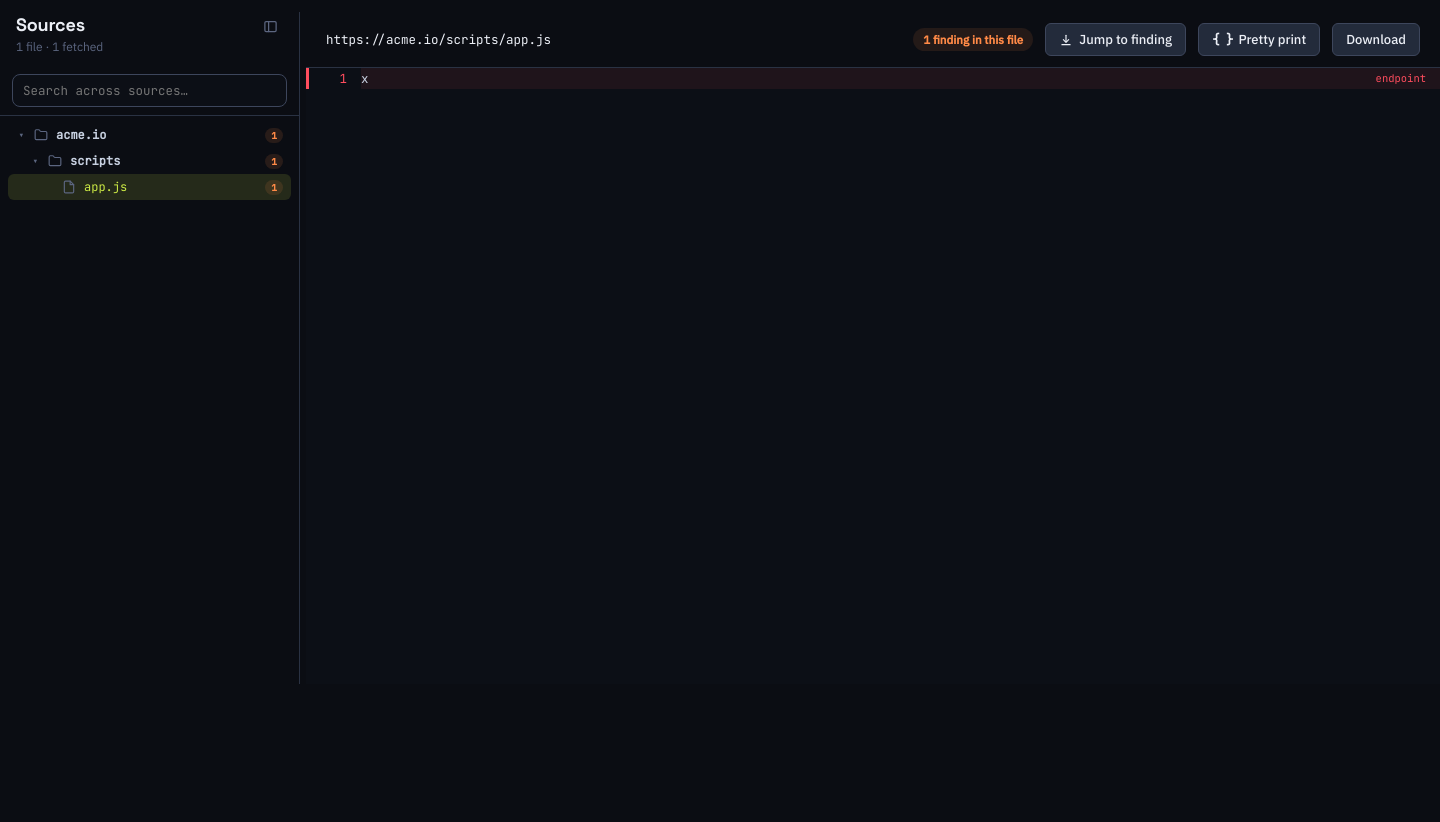
Test: SourcesPage › folds a directory and shows an aggregated finding badge on the folder
This screenshot has width=1440, height=822.
Expected: the text "app.js" is shown, [84,179,127,195]
Step 1. Click the button "▸ scripts 1" → {"x": 95, "y": 161}, box [8,148,291,174]
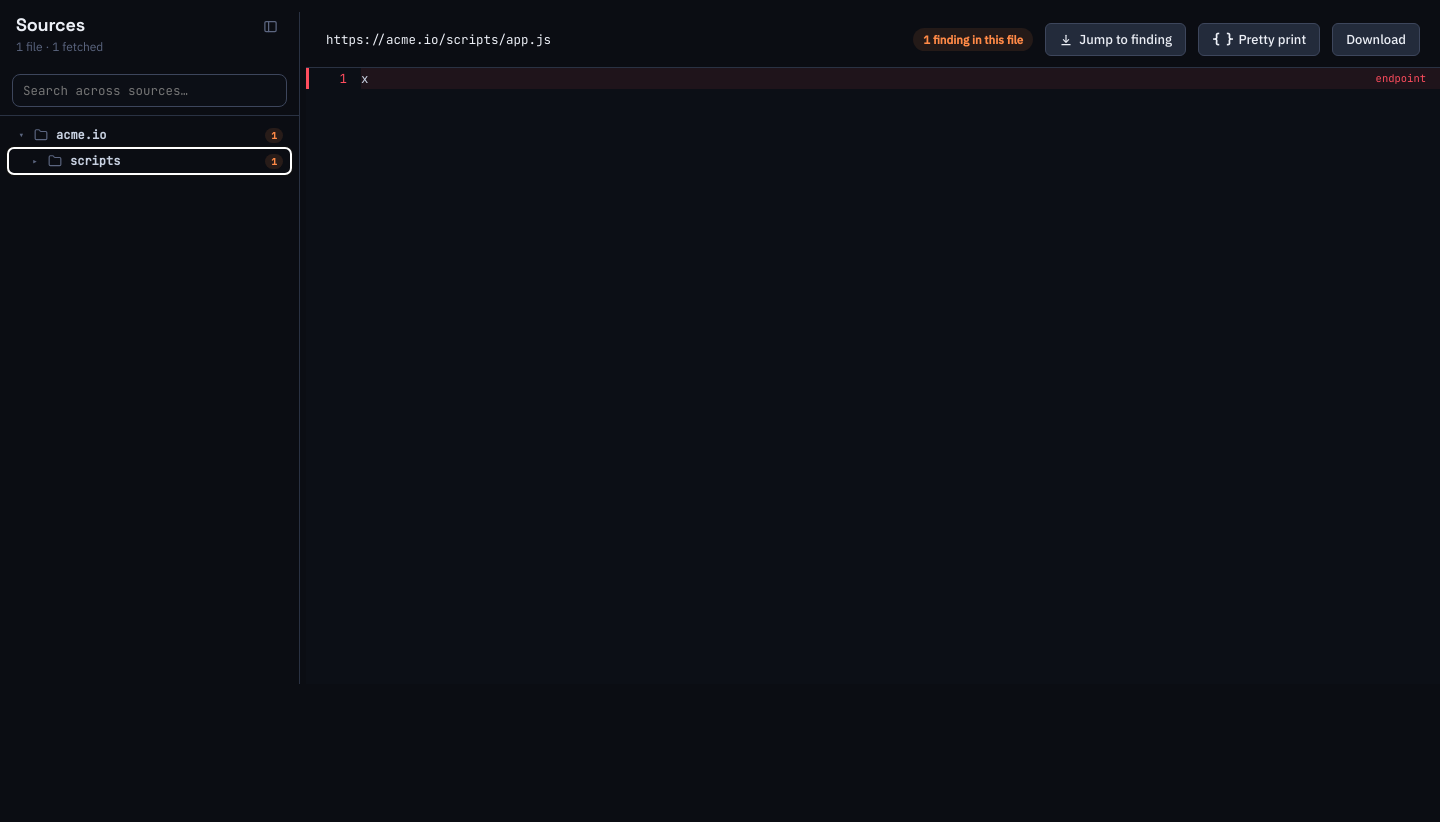
Step 2. Click the button "▸ scripts 1" → {"x": 95, "y": 161}, box [8,148,291,174]
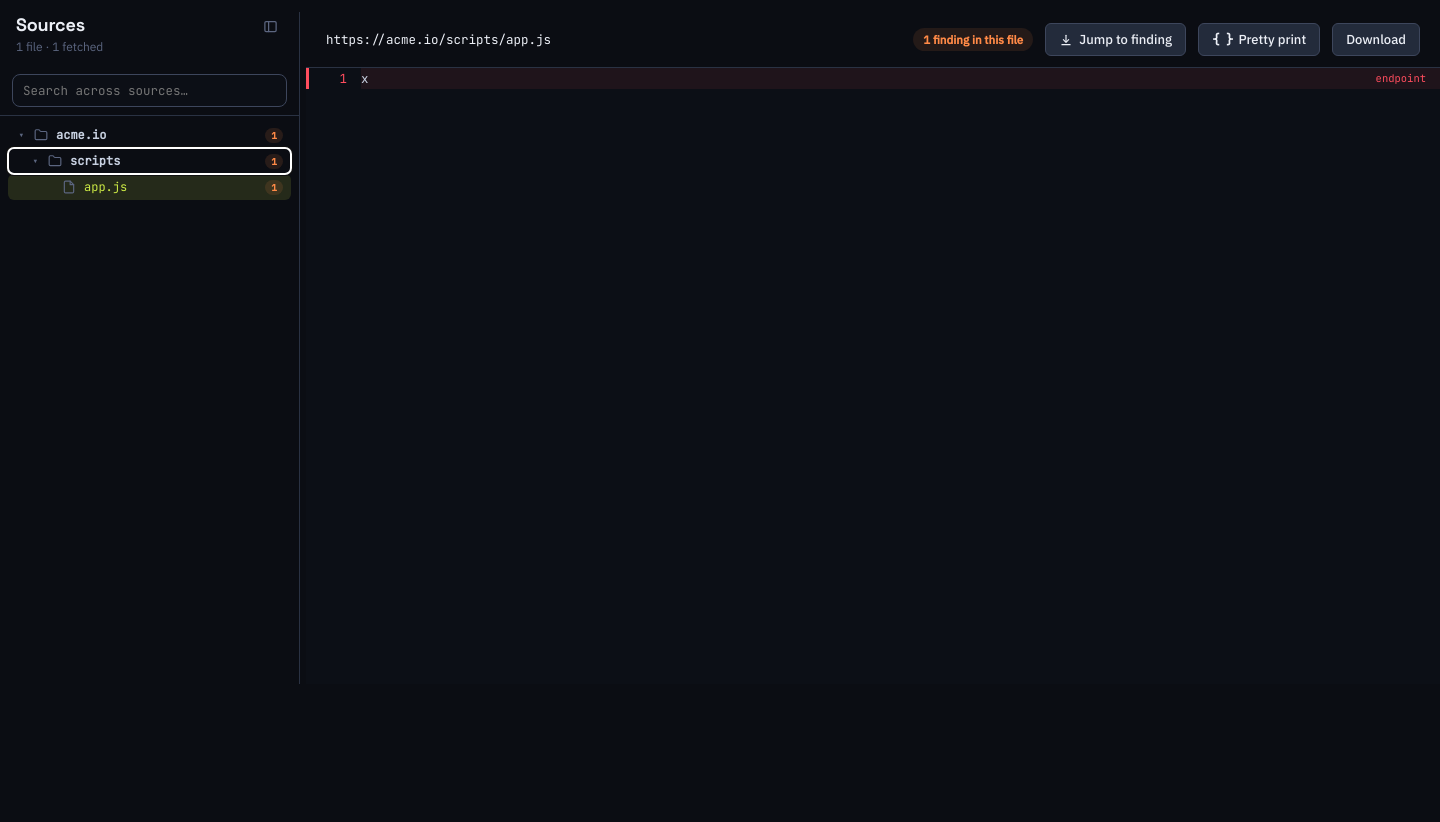
Result: the text "app.js" is shown at [84,179,127,195]
